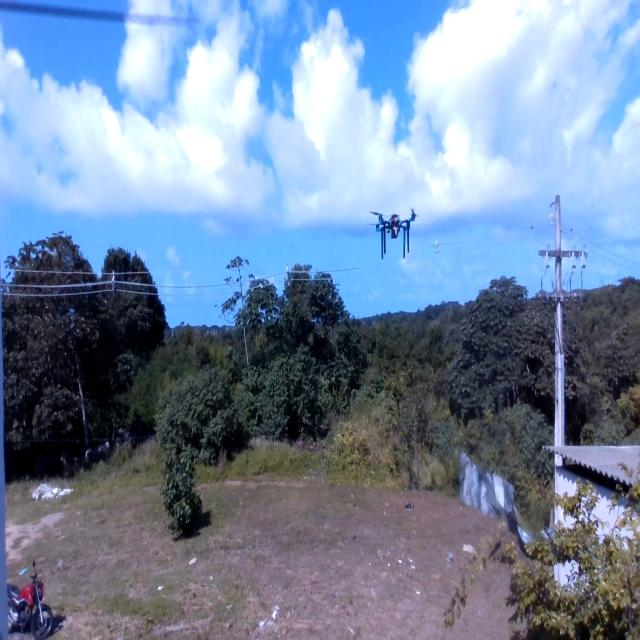-uav-: (368, 197, 419, 267)
